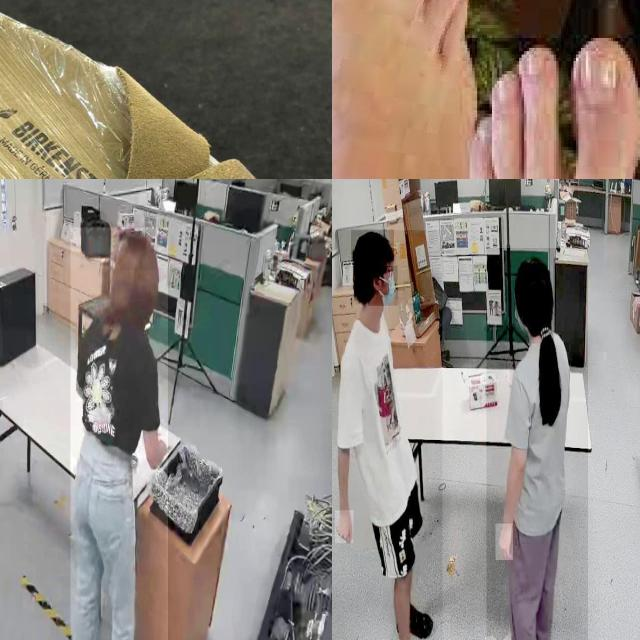Barefoots: (332, 0, 483, 179)
Sandals: (0, 0, 332, 179)
face_mask: (368, 266, 398, 306)
hand_noglove: (496, 523, 514, 561), (335, 510, 354, 544)
head_nohelmet: (115, 228, 157, 271), (351, 230, 395, 262), (514, 256, 552, 293)
person: (332, 230, 442, 640), (70, 227, 168, 640), (486, 248, 588, 640)
shoes: (395, 602, 435, 640)
